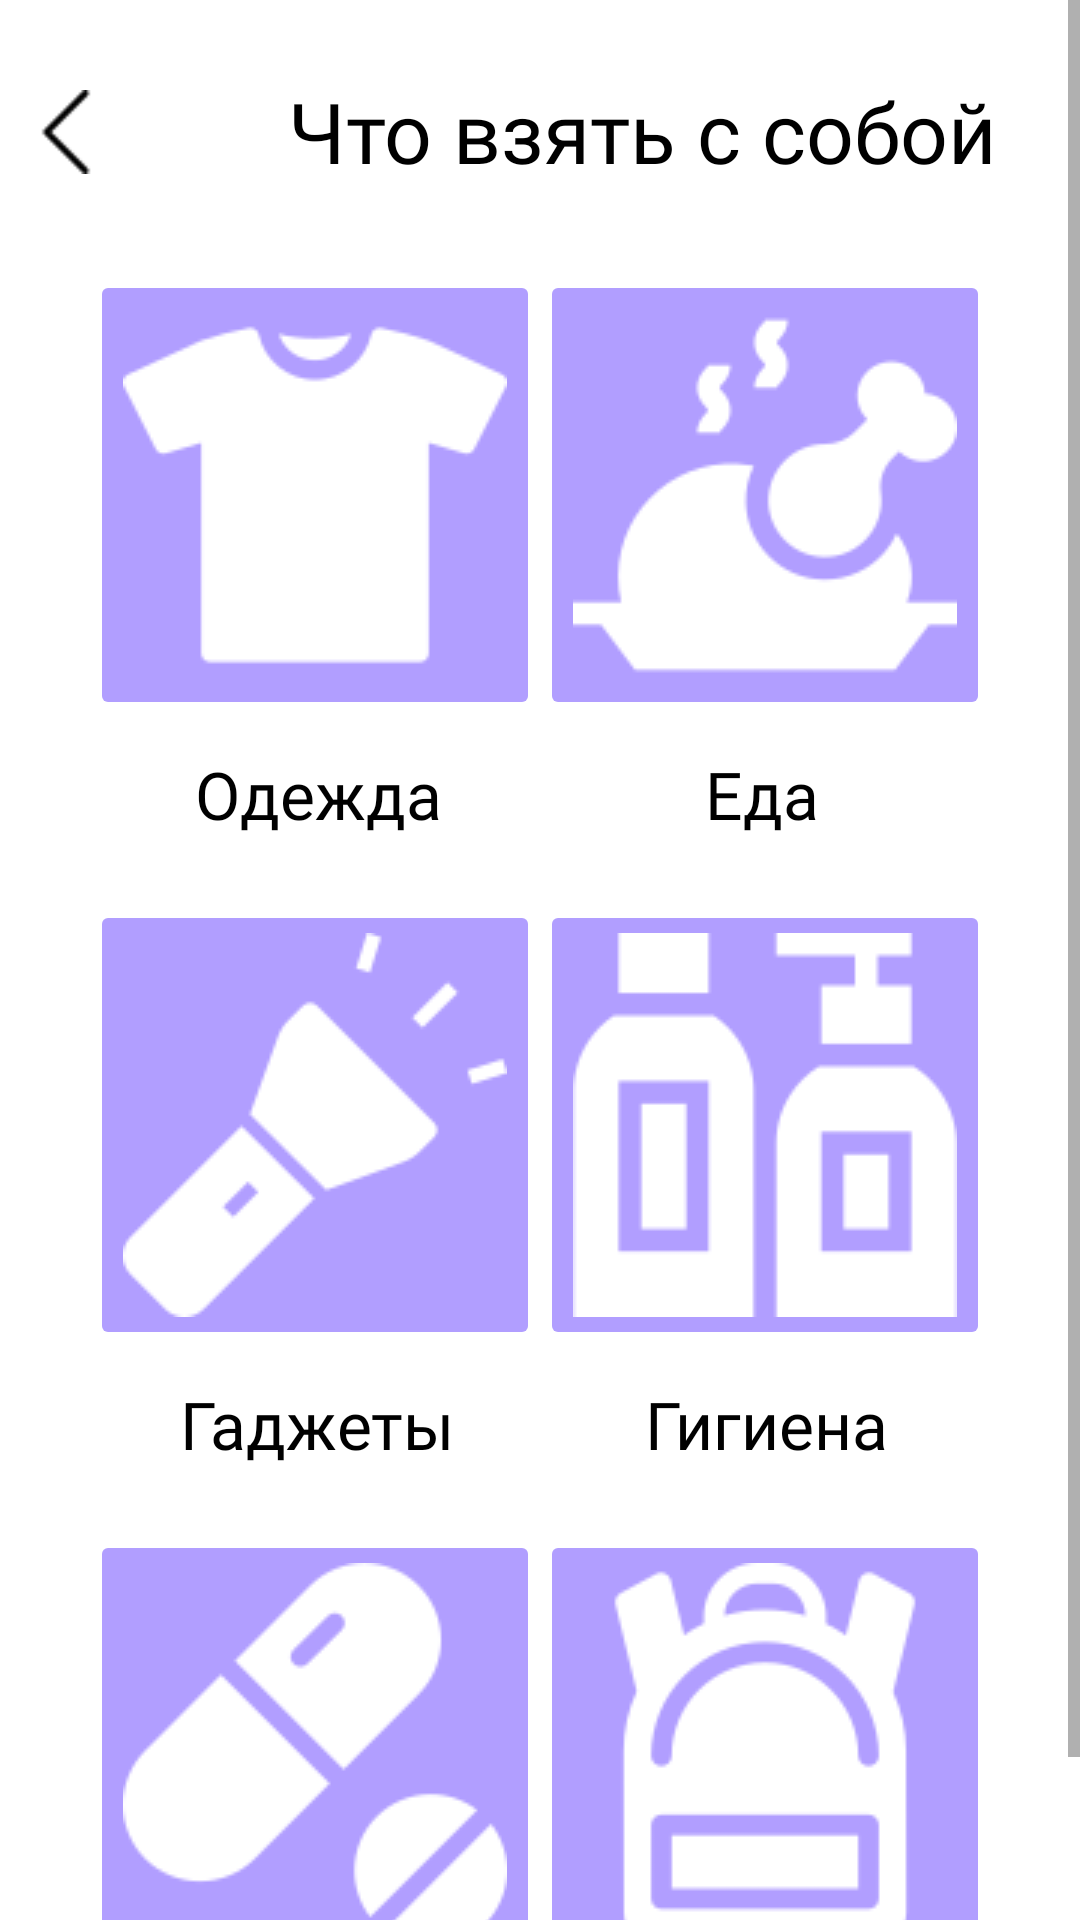

Point at icon controls on the screen. Image size 1080×1920, points as (x,y).
left arrow: (66,132)
